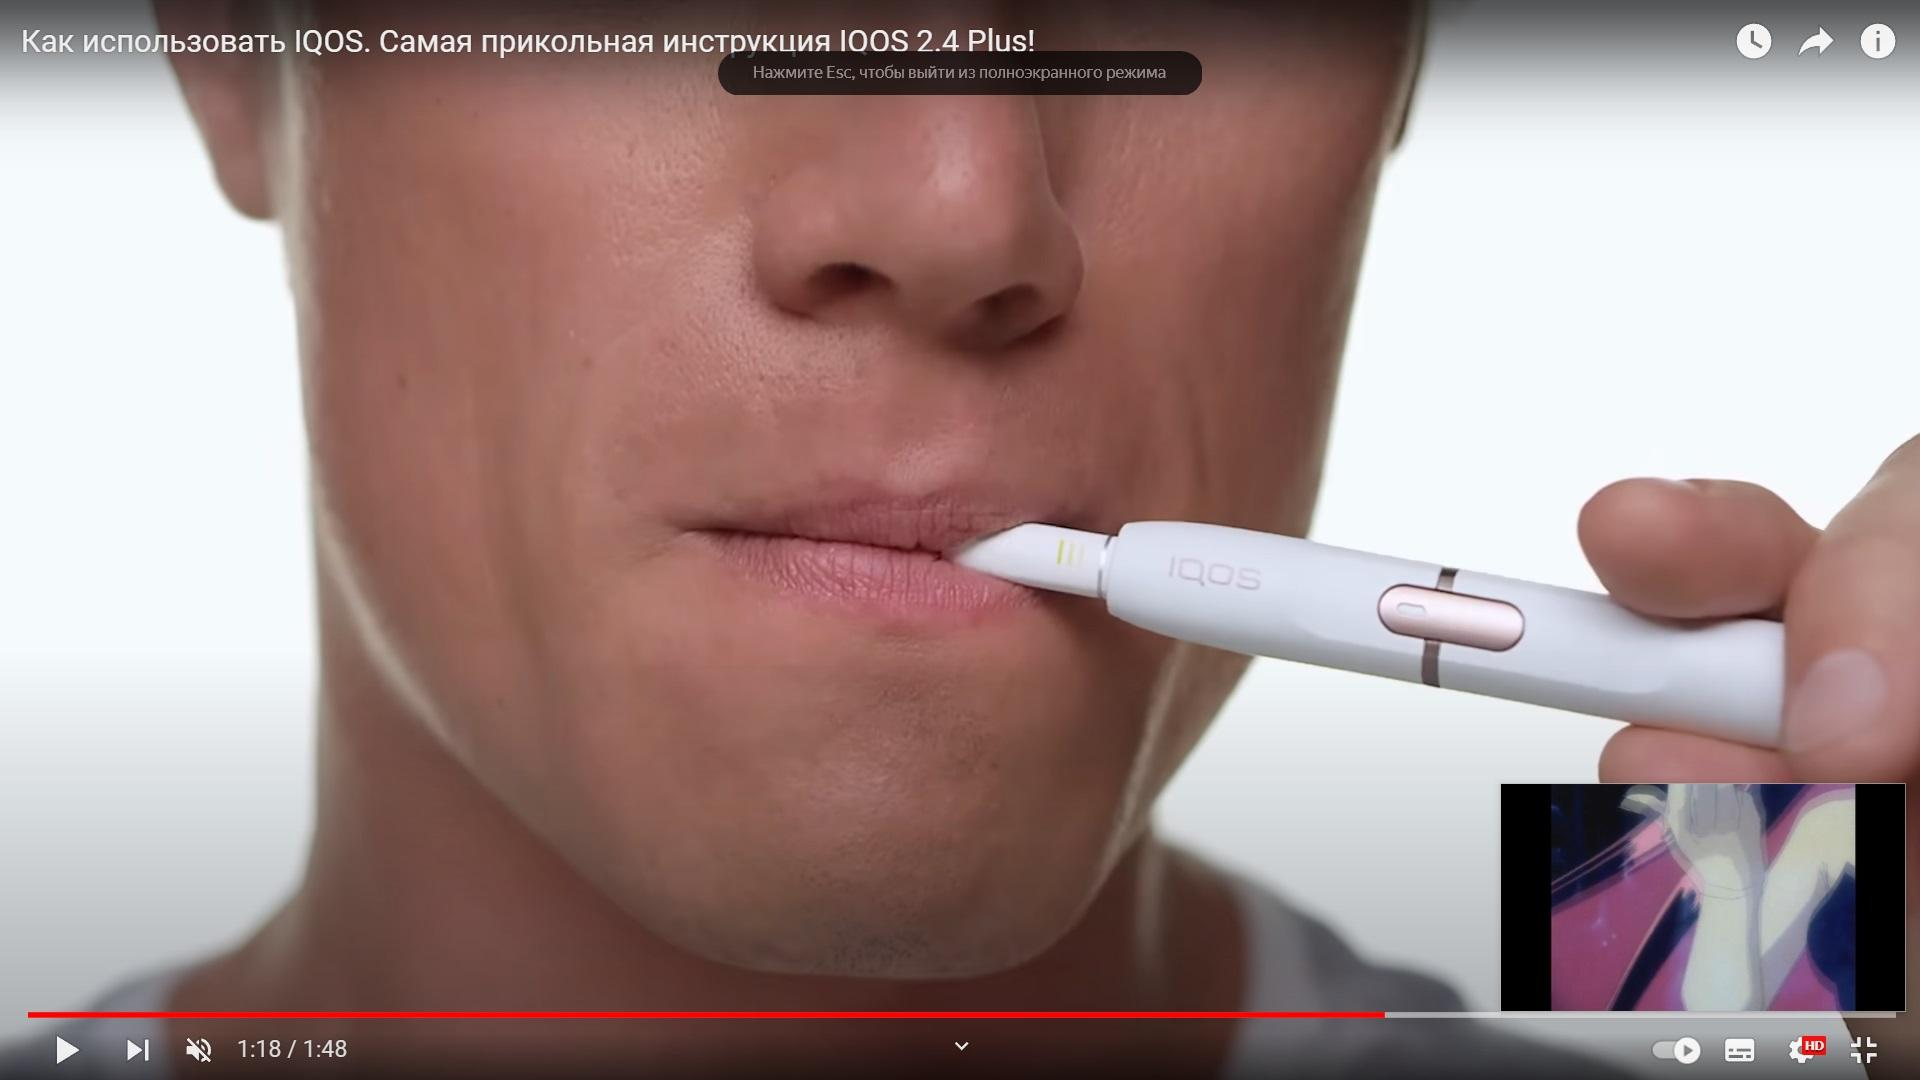iqos: (953, 522, 1784, 745)
